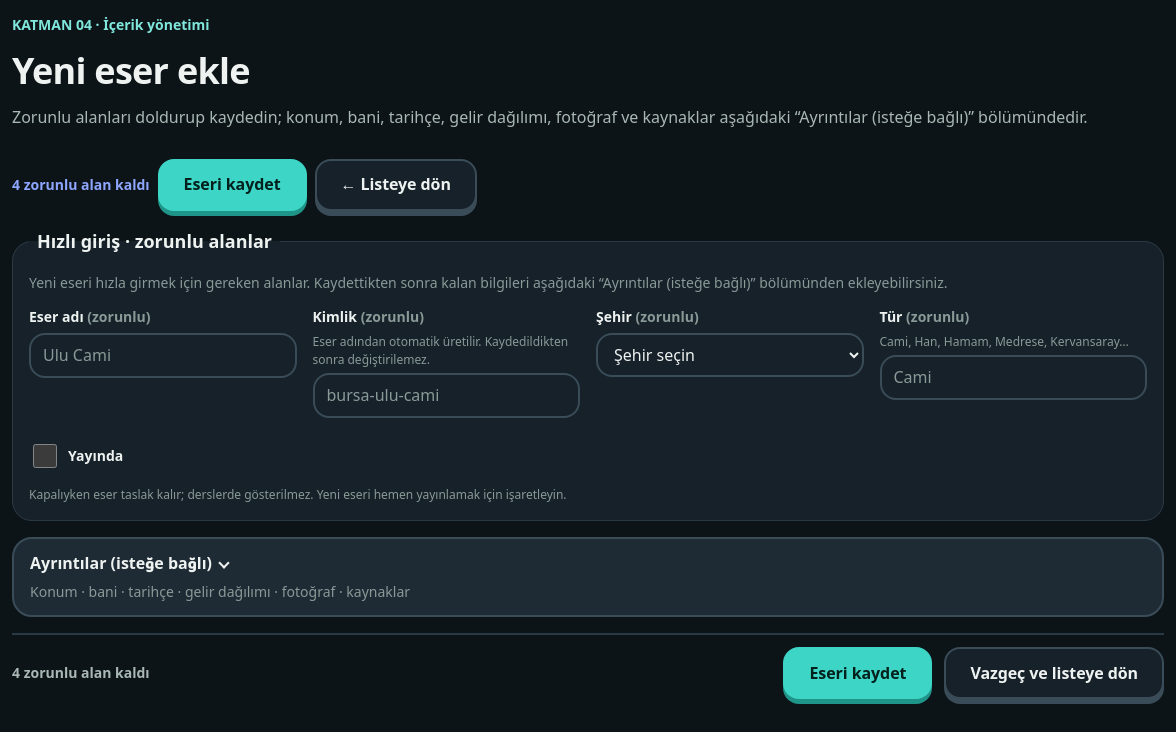
Scenario: EserFormu — hızlı giriş düzeni › boş formda kaydet: hata özeti görünür ve odak ilk hatalı alana gider
This screenshot has width=1176, height=732.
Step 1. Click the button "Eseri kaydet" below "Yeni eser ekle" → (232, 185), box [158, 159, 306, 211]
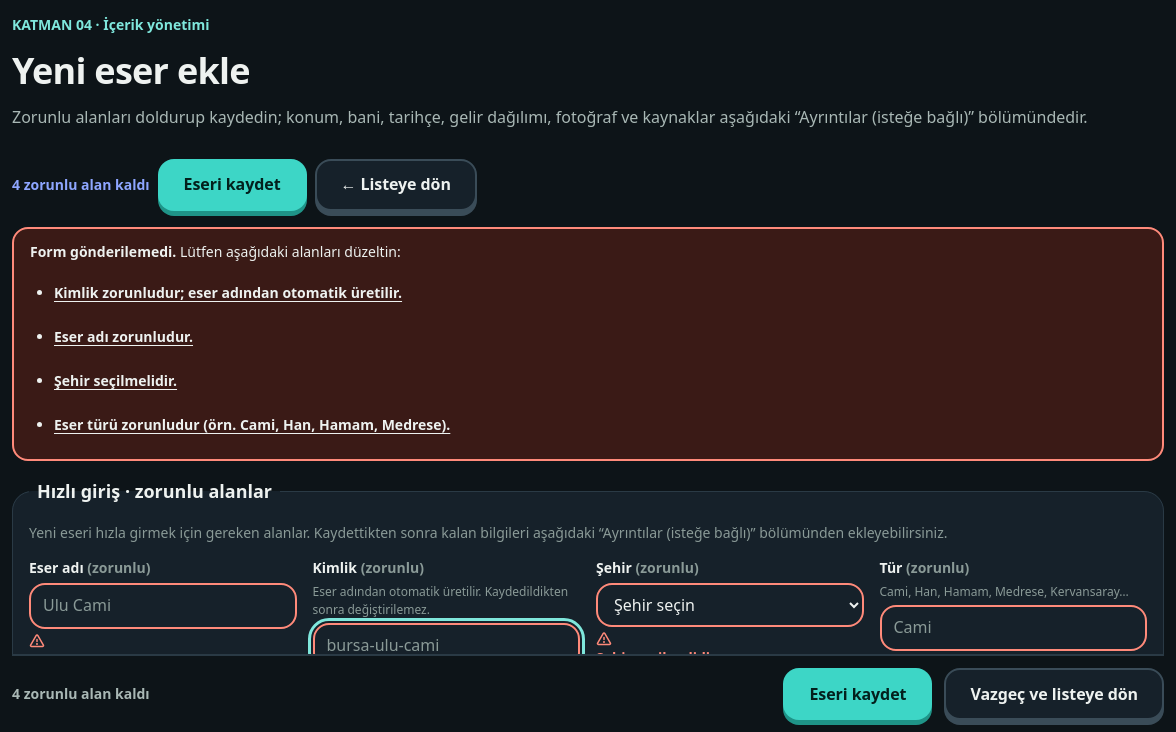
Now the message that starts with "Form gönderilemedi." is shown, box [12, 227, 1164, 461]
Now the message that starts with "Form gönderilemedi." shows "Eser adı zorunludur.", box [54, 315, 193, 359]
